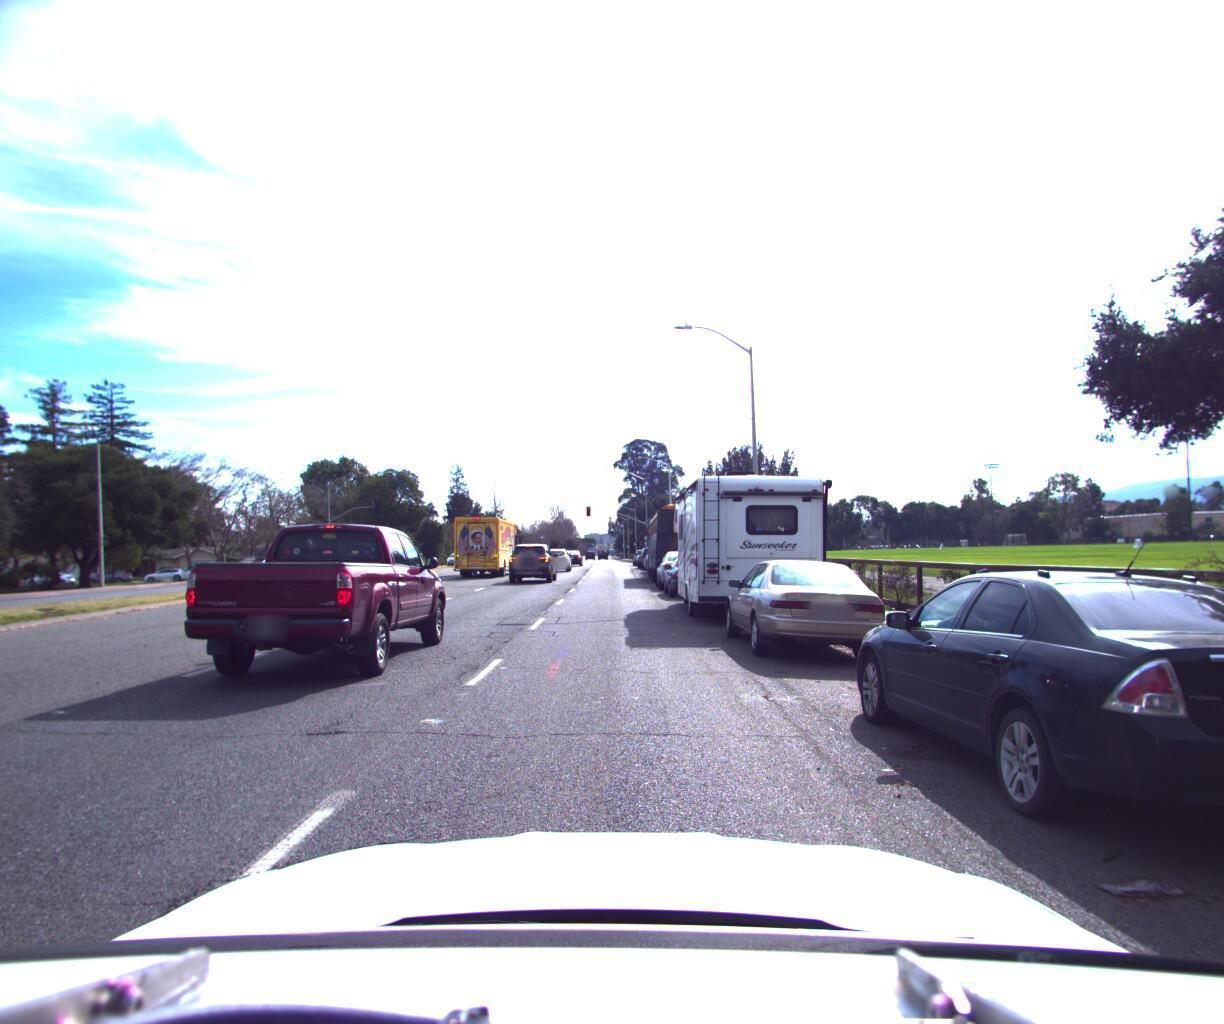bus: (642, 497, 723, 576)
car: (817, 557, 1224, 914), (156, 506, 454, 688), (720, 552, 896, 662), (661, 546, 730, 594), (654, 542, 710, 586), (504, 537, 558, 578), (256, 544, 314, 573), (544, 540, 573, 565), (562, 542, 583, 560)
other_vehicle: (665, 450, 845, 623)
truck: (452, 509, 523, 574)
